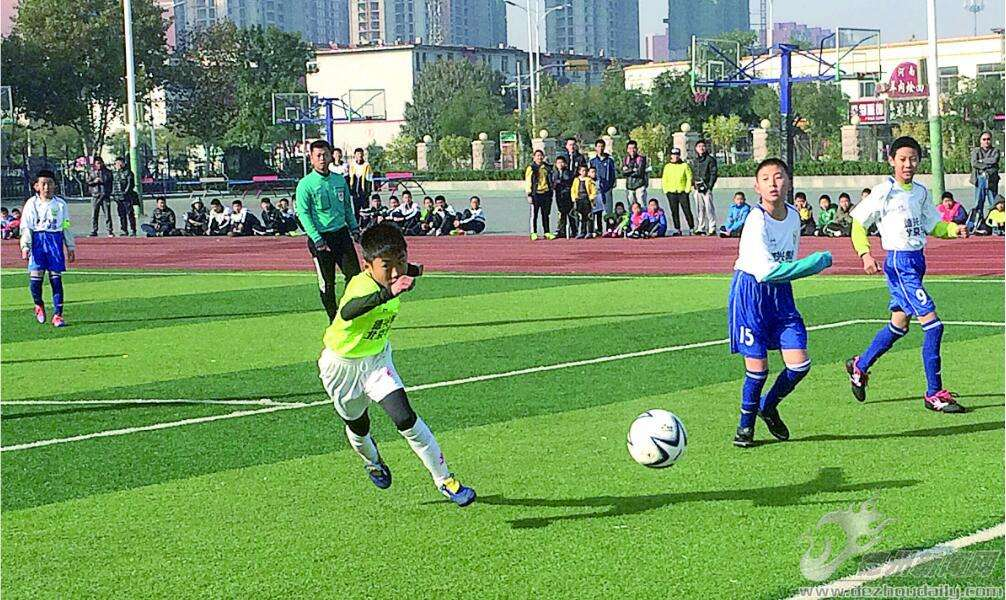football: (625, 408, 692, 472)
